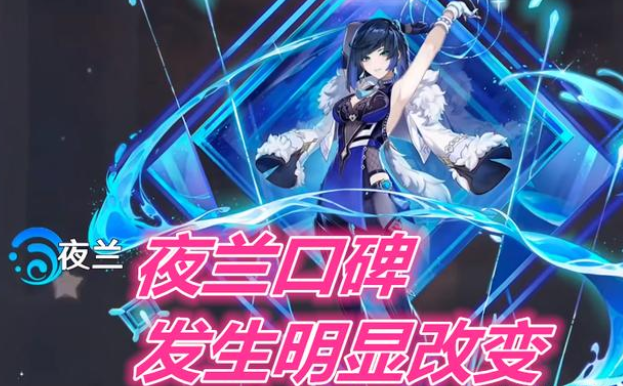夜兰: (291, 1, 479, 386)
